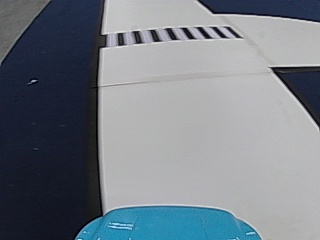CrossWalk: (100, 24, 237, 47)
